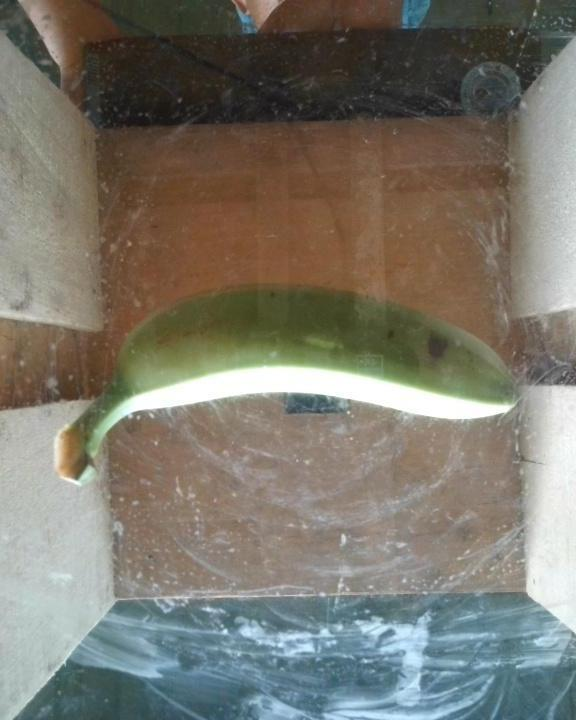CLASS B: (42, 268, 553, 491)
Class A: (381, 323, 405, 347)
